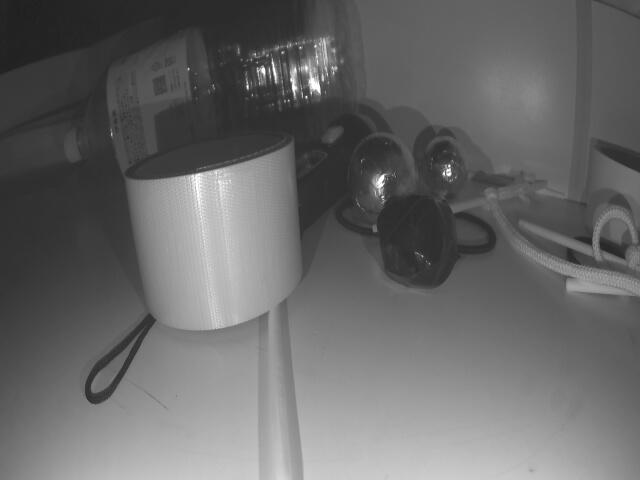Dead: (380, 198, 456, 292)
Live: (351, 133, 415, 222), (422, 140, 465, 196)
Point: (3, 113, 95, 169)
